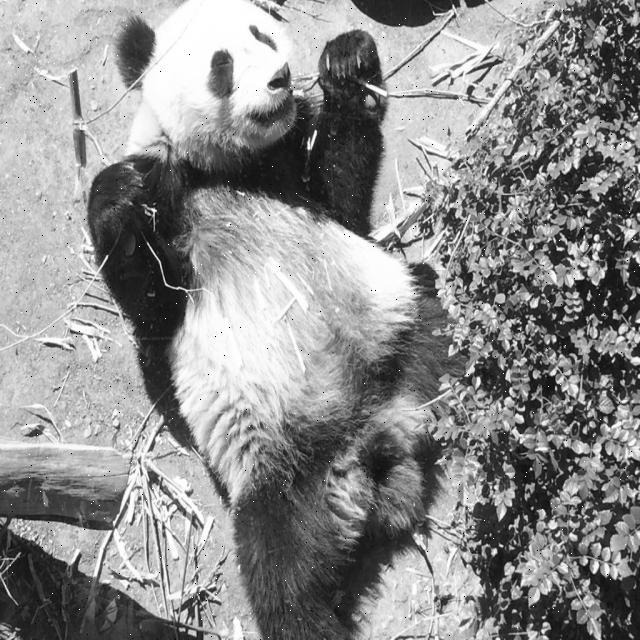panda: (87, 0, 482, 639)
